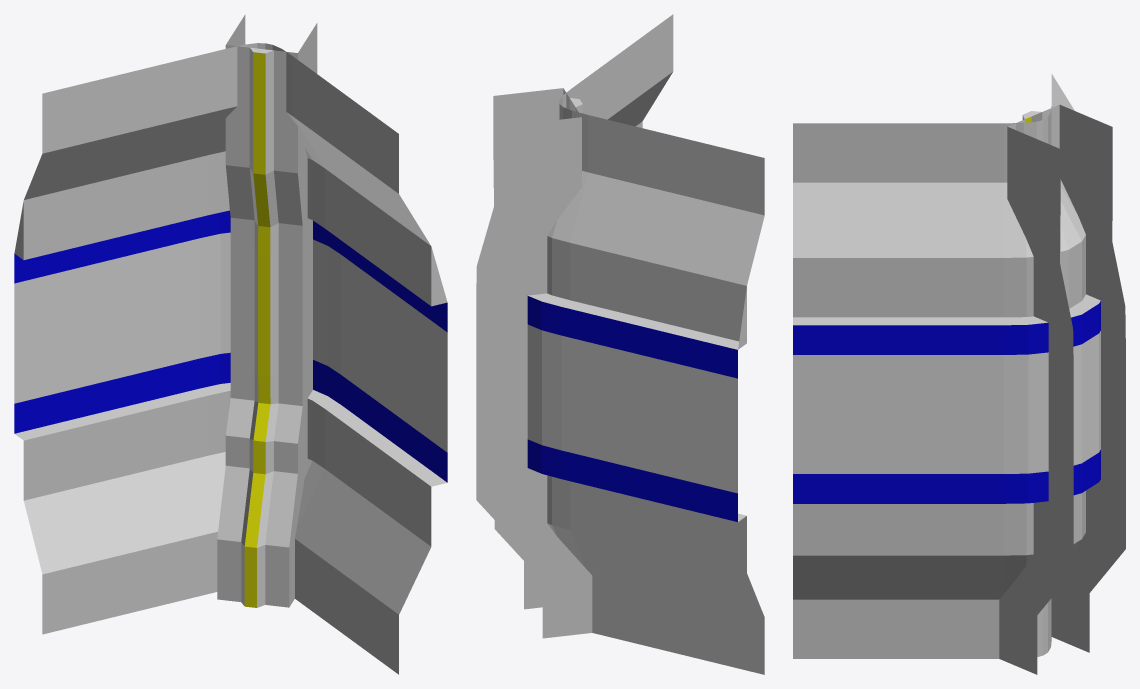
Rendered from CornerColumns.fbx.
3 views of the same model, side by side, from view 1: azimuth 30°, elevation 25°; view 2: azimuth 150°, elevation 25°; view 3: azimuth 270°, elevation 25° (orthographic). The views are drawn at different scales.
Parts seen in each view (by area): view 1: CornerColumns; view 2: CornerColumns; view 3: CornerColumns.
Part boxes in pixels (left/top/right/bottom): CornerColumns: left=14, top=14, right=447, bottom=674; CornerColumns: left=476, top=14, right=764, bottom=674; CornerColumns: left=793, top=74, right=1125, bottom=674.
Bounding box in the file's own units: 1.13 × 2 × 1.13.
